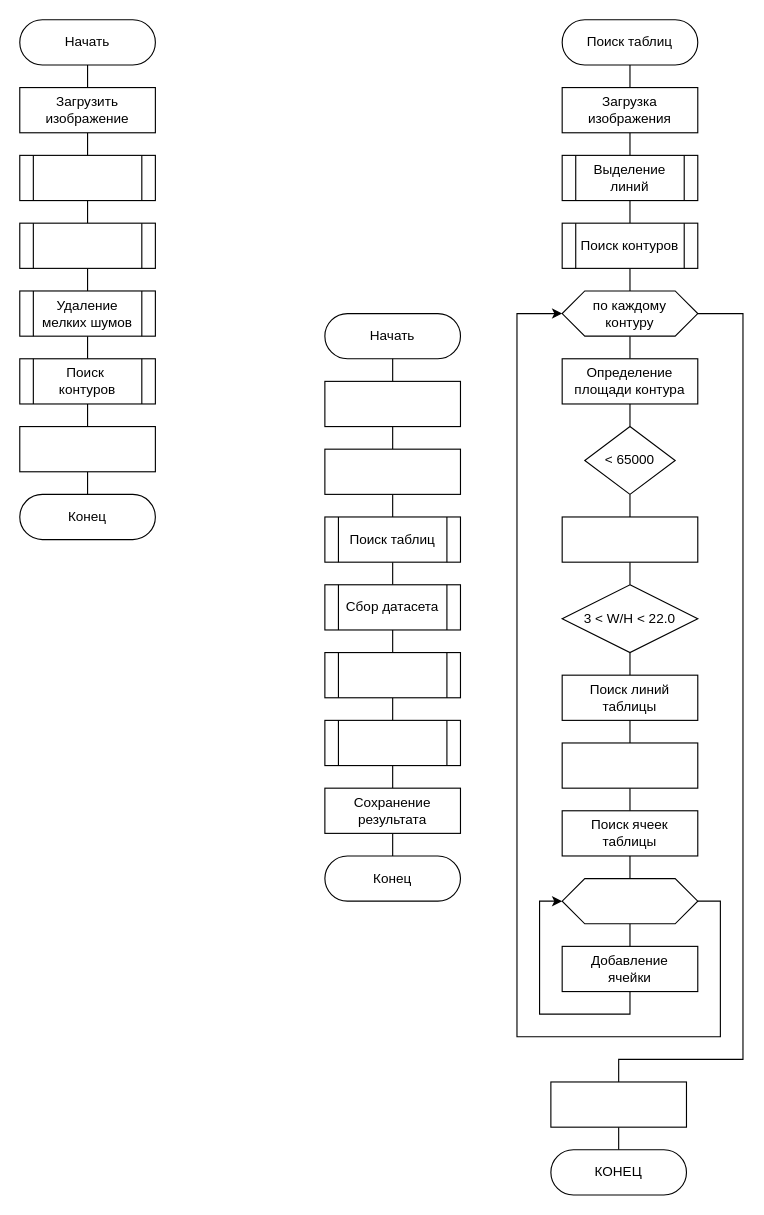
Image size: 764x1215. Some labels were removed from this diagram. Each missing label, with the centre of its shape:
"Бинаризация изображения" goes at (x=87, y=245).
"Добавление таблицы" goes at (x=629, y=765).
"Загрузить PDF файл" goes at (x=392, y=403).
"Конвертация в оттенки серого" goes at (x=87, y=177).
"Обучение модели" goes at (x=392, y=674).
"Определение размеров таблиц" goes at (x=629, y=539).
"по каждой ячейке" goes at (x=629, y=900).
"Получение метрик" goes at (x=392, y=742).
"Преобразовать в изображение" goes at (x=392, y=471).
"Сохранение контуров" goes at (x=618, y=1104).
"Сохранить результат" goes at (x=87, y=448).
